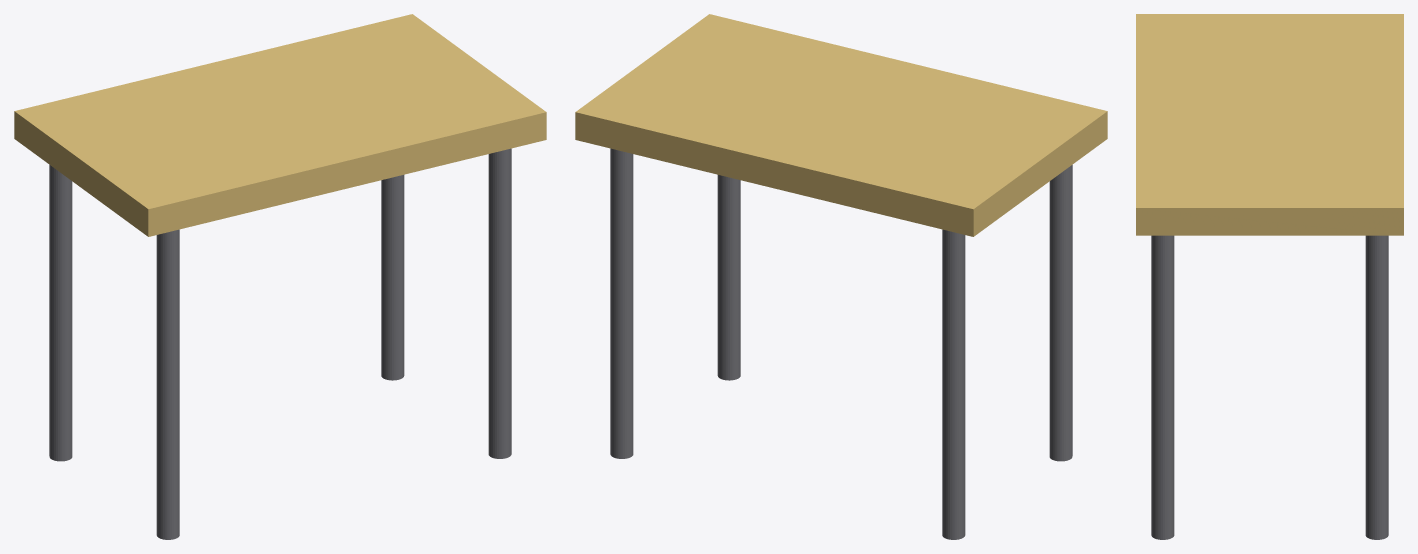
Rendered from P2_Table.fbx.
3 views of the same model, side by side, from view 1: azimuth 30°, elevation 25°; view 2: azimuth 150°, elevation 25°; view 3: azimuth 270°, elevation 25° (orthographic).
Visible parts, largest first — view 1: P2_Table, P2_Leg_-0.5_-0.28, P2_Leg_0.5_-0.28, P2_Leg_-0.5_0.28, P2_Leg_0.5_0.28; view 2: P2_Table, P2_Leg_-0.5_0.28, P2_Leg_0.5_0.28, P2_Leg_-0.5_-0.28, P2_Leg_0.5_-0.28; view 3: P2_Table, P2_Leg_0.5_-0.28, P2_Leg_0.5_0.28.
Part boxes in pixels (x1=…): P2_Table: x1=14, y1=14, x2=546, y2=236; P2_Leg_-0.5_-0.28: x1=156, y1=229, x2=179, y2=539; P2_Leg_0.5_-0.28: x1=488, y1=148, x2=511, y2=458; P2_Leg_-0.5_0.28: x1=49, y1=165, x2=72, y2=461; P2_Leg_0.5_0.28: x1=381, y1=175, x2=404, y2=380; P2_Table: x1=575, y1=14, x2=1107, y2=236; P2_Leg_-0.5_0.28: x1=942, y1=229, x2=965, y2=539; P2_Leg_0.5_0.28: x1=610, y1=148, x2=633, y2=458; P2_Leg_-0.5_-0.28: x1=1049, y1=165, x2=1072, y2=461; P2_Leg_0.5_-0.28: x1=717, y1=175, x2=740, y2=380; P2_Table: x1=1136, y1=14, x2=1403, y2=235; P2_Leg_0.5_-0.28: x1=1151, y1=235, x2=1174, y2=539; P2_Leg_0.5_0.28: x1=1365, y1=235, x2=1388, y2=539.
Size of the model in its own units: 1.2 by 0.99 by 0.7.
